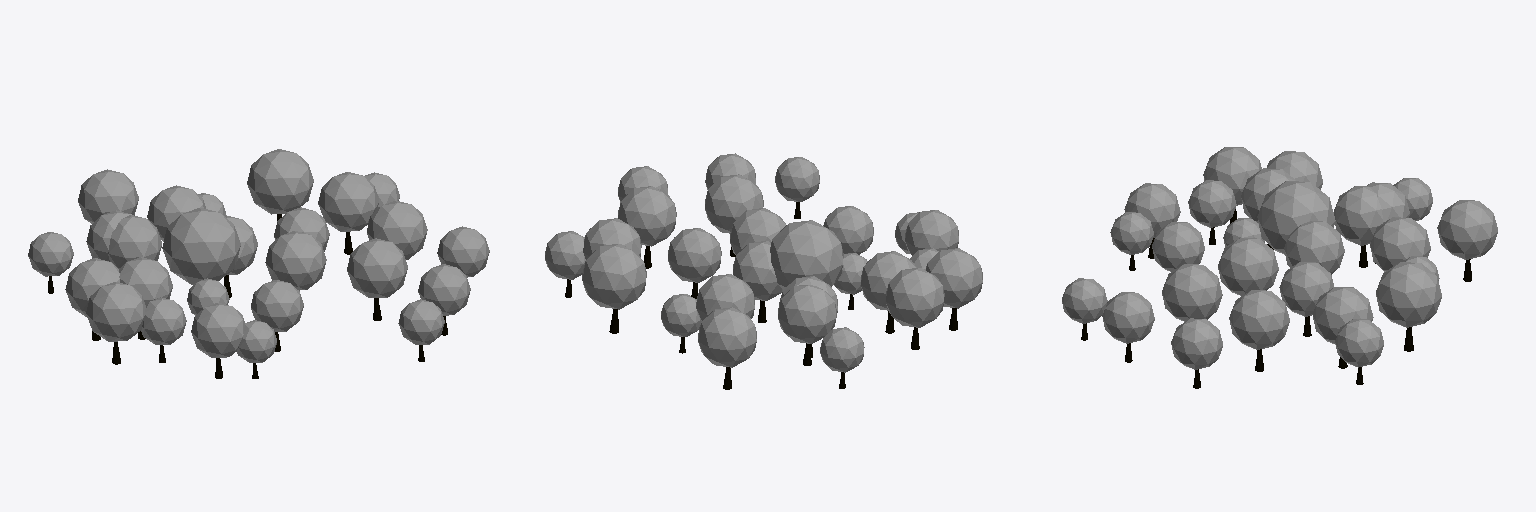
Rendered from GroupeArbres2.obj.
3 views of the same model, side by side, from view 1: azimuth 30°, elevation 25°; view 2: azimuth 150°, elevation 25°; view 3: azimuth 270°, elevation 25° (orthographic).
Visible parts, largest first — view 1: Arbre2_Fusioné.1234_Cylinder.025, Arbre2_Fusioné.1229_Cylinder.025, Arbre2_Fusioné.1217_Cylinder.025, Arbre2_Fusioné.1212_Cylinder.025, Arbre2_Fusioné.1218_Cylinder.025, Arbre2_Fusioné.1219_Cylinder.025, Arbre2_Fusioné.1225_Cylinder.025, Arbre2_Fusioné.1227_Cylinder.025, Arbre2_Fusioné.1230_Cylinder.025, Arbre2_Fusioné.1216_Cylinder.025, Arbre2_Fusioné.1232_Cylinder.025, Arbre2_Fusioné.1235_Cylinder.025 (+13 smaller); view 2: Arbre2_Fusioné.1234_Cylinder.025, Arbre2_Fusioné.1229_Cylinder.025, Arbre2_Fusioné.1230_Cylinder.025, Arbre2_Fusioné.1211_Cylinder.025, Arbre2_Fusioné.1223_Cylinder.025, Arbre2_Fusioné.1227_Cylinder.025, Arbre2_Fusioné.1212_Cylinder.025, Arbre2_Fusioné.1231_Cylinder.025, Arbre2_Fusioné.1217_Cylinder.025, Arbre2_Fusioné.1233_Cylinder.025, Arbre2_Fusioné.1222_Cylinder.025, Arbre2_Fusioné.1225_Cylinder.025 (+11 smaller); view 3: Arbre2_Fusioné.1229_Cylinder.025, Arbre2_Fusioné.1234_Cylinder.025, Arbre2_Fusioné.1227_Cylinder.025, Arbre2_Fusioné.1230_Cylinder.025, Arbre2_Fusioné.1217_Cylinder.025, Arbre2_Fusioné.1219_Cylinder.025, Arbre2_Fusioné.1232_Cylinder.025, Arbre2_Fusioné.1222_Cylinder.025, Arbre2_Fusioné.1233_Cylinder.025, Arbre2_Fusioné.1235_Cylinder.025, Arbre2_Fusioné.1231_Cylinder.025, Arbre2_Fusioné.1218_Cylinder.025 (+13 smaller).
Boxes of the visible parts, x1,y1,x2,y2 form: Arbre2_Fusioné.1234_Cylinder.025: [162, 208, 240, 284]; Arbre2_Fusioné.1229_Cylinder.025: [247, 149, 313, 220]; Arbre2_Fusioné.1217_Cylinder.025: [347, 238, 407, 320]; Arbre2_Fusioné.1212_Cylinder.025: [86, 282, 145, 364]; Arbre2_Fusioné.1218_Cylinder.025: [318, 172, 378, 254]; Arbre2_Fusioné.1219_Cylinder.025: [265, 231, 326, 290]; Arbre2_Fusioné.1225_Cylinder.025: [191, 303, 244, 378]; Arbre2_Fusioné.1227_Cylinder.025: [367, 201, 427, 259]; Arbre2_Fusioné.1230_Cylinder.025: [78, 169, 138, 223]; Arbre2_Fusioné.1216_Cylinder.025: [251, 280, 303, 351]; Arbre2_Fusioné.1232_Cylinder.025: [108, 215, 161, 268]; Arbre2_Fusioné.1235_Cylinder.025: [418, 264, 470, 335]; Arbre2_Fusioné.1234_Cylinder.025: [770, 220, 843, 289]; Arbre2_Fusioné.1229_Cylinder.025: [582, 244, 646, 333]; Arbre2_Fusioné.1230_Cylinder.025: [698, 307, 756, 389]; Arbre2_Fusioné.1211_Cylinder.025: [886, 268, 944, 349]; Arbre2_Fusioné.1223_Cylinder.025: [778, 285, 836, 365]; Arbre2_Fusioné.1227_Cylinder.025: [618, 186, 676, 268]; Arbre2_Fusioné.1212_Cylinder.025: [926, 248, 982, 330]; Arbre2_Fusioné.1231_Cylinder.025: [668, 228, 721, 298]; Arbre2_Fusioné.1217_Cylinder.025: [705, 174, 763, 256]; Arbre2_Fusioné.1233_Cylinder.025: [733, 241, 782, 322]; Arbre2_Fusioné.1222_Cylinder.025: [696, 274, 754, 320]; Arbre2_Fusioné.1225_Cylinder.025: [905, 210, 958, 255]; Arbre2_Fusioné.1229_Cylinder.025: [1376, 262, 1441, 351]; Arbre2_Fusioné.1234_Cylinder.025: [1257, 181, 1335, 254]; Arbre2_Fusioné.1227_Cylinder.025: [1229, 290, 1289, 371]; Arbre2_Fusioné.1230_Cylinder.025: [1437, 200, 1497, 281]; Arbre2_Fusioné.1217_Cylinder.025: [1162, 264, 1222, 321]; Arbre2_Fusioné.1219_Cylinder.025: [1218, 238, 1278, 295]; Arbre2_Fusioné.1232_Cylinder.025: [1334, 186, 1382, 267]; Arbre2_Fusioné.1222_Cylinder.025: [1370, 217, 1430, 271]; Arbre2_Fusioné.1233_Cylinder.025: [1284, 221, 1344, 274]; Arbre2_Fusioné.1235_Cylinder.025: [1102, 292, 1154, 362]; Arbre2_Fusioné.1231_Cylinder.025: [1279, 262, 1333, 336]; Arbre2_Fusioné.1218_Cylinder.025: [1313, 287, 1373, 368].
Size of the model in its own units: 5.07 by 1.29 by 5.08.